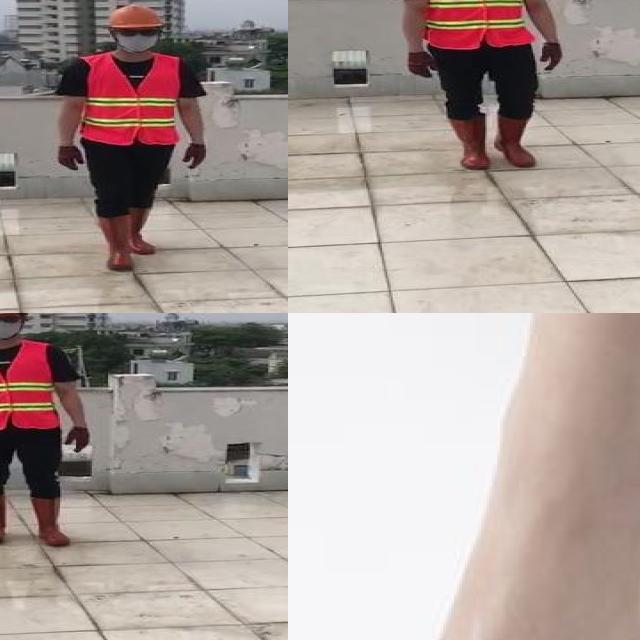Barefoots: (343, 423, 640, 640)
boots: (448, 116, 490, 170), (97, 213, 135, 271), (492, 112, 532, 167), (31, 494, 70, 546), (128, 206, 162, 254), (0, 494, 8, 544)
face_mask: (114, 26, 160, 52), (0, 313, 22, 339)
glasses: (114, 26, 162, 38), (0, 313, 19, 326)
hand_glove: (407, 50, 439, 80), (57, 143, 87, 172), (183, 143, 206, 171), (542, 42, 562, 73), (67, 426, 90, 452)
head_helmet: (105, 3, 165, 29)
person: (54, 0, 212, 278), (394, 0, 573, 184), (0, 313, 95, 550)
vest: (85, 52, 178, 145), (422, 0, 531, 48), (0, 342, 58, 431)
